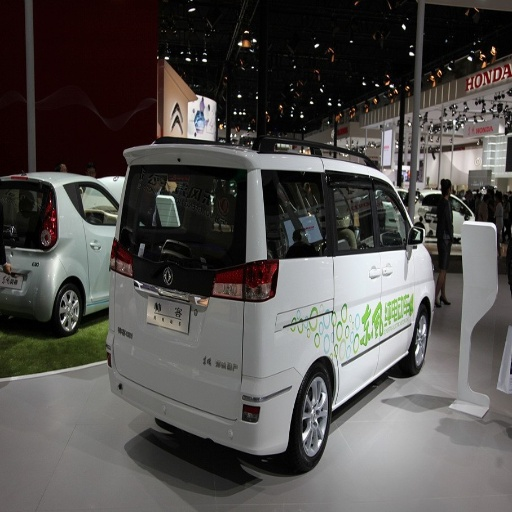back_bumper: (113, 288, 305, 452), (4, 253, 64, 314)
back_right_door: (337, 174, 379, 388)
trunk: (113, 245, 328, 403)
